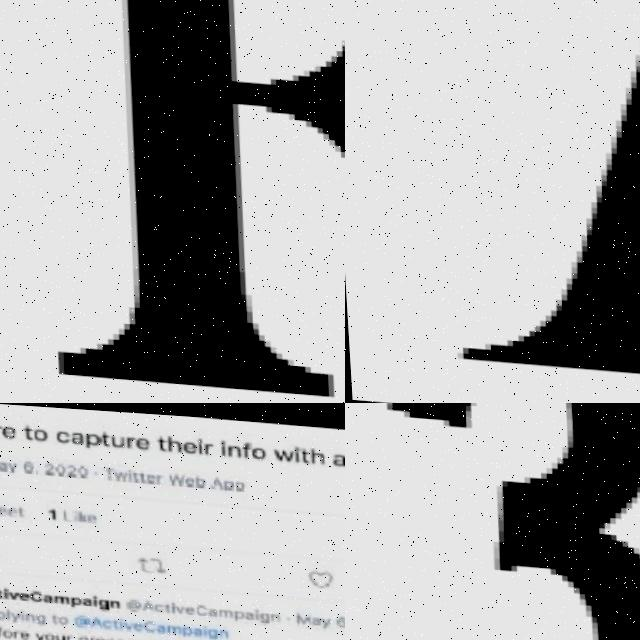0: (54, 461, 65, 472), (77, 463, 88, 473)
1: (47, 506, 54, 518)
2: (66, 462, 77, 473), (43, 461, 53, 471)
3: (353, 403, 640, 640)
6: (22, 459, 33, 470), (334, 611, 344, 621)
A: (331, 446, 345, 459), (69, 429, 83, 441), (210, 473, 223, 484), (88, 614, 100, 624), (140, 597, 151, 607), (40, 592, 50, 602), (79, 595, 90, 604), (205, 604, 215, 613), (242, 606, 251, 616), (190, 623, 200, 632), (309, 611, 318, 620), (153, 621, 162, 630), (0, 459, 6, 468)
B: (194, 471, 203, 482)
C: (53, 428, 70, 441), (140, 617, 153, 628), (28, 589, 40, 600), (192, 601, 204, 611), (151, 599, 161, 608), (99, 616, 109, 625), (133, 636, 143, 640), (155, 638, 166, 640)
E: (2, 424, 16, 437), (135, 433, 149, 446), (182, 437, 197, 449), (6, 505, 16, 515), (84, 510, 94, 520), (16, 590, 26, 600), (183, 473, 193, 482), (182, 602, 191, 612), (130, 619, 140, 628), (145, 469, 154, 478), (17, 629, 26, 638), (0, 504, 5, 513), (123, 636, 133, 640)
F: (13, 0, 345, 403), (241, 437, 250, 454)
G: (95, 596, 106, 607), (256, 607, 266, 617), (32, 612, 42, 622), (205, 624, 215, 634)
H: (166, 432, 181, 448), (309, 442, 324, 458)
I: (455, 45, 640, 371), (294, 440, 299, 457), (197, 434, 202, 450), (221, 436, 226, 452), (199, 620, 204, 633), (89, 592, 94, 604), (126, 467, 131, 477), (1, 586, 6, 596), (167, 599, 172, 609), (251, 605, 256, 615), (18, 609, 23, 619), (71, 509, 75, 519), (117, 616, 121, 626)
K: (78, 509, 84, 519)
L: (61, 508, 70, 518), (4, 608, 8, 618)
M: (50, 593, 67, 603), (162, 621, 179, 631), (293, 608, 308, 619), (215, 604, 231, 614)
N: (227, 440, 241, 453), (267, 608, 277, 618), (107, 596, 117, 605), (216, 625, 226, 634), (22, 613, 32, 619)
O: (31, 427, 48, 440), (250, 441, 267, 454), (41, 630, 51, 640), (0, 627, 9, 636), (92, 634, 102, 640), (56, 614, 65, 620)
P: (85, 431, 100, 446), (68, 594, 79, 605), (231, 605, 241, 616), (223, 475, 232, 486), (234, 476, 243, 487), (180, 622, 189, 633), (75, 633, 85, 640), (113, 635, 122, 640), (0, 609, 2, 619)
R: (125, 433, 135, 445), (203, 438, 212, 451), (155, 471, 162, 480), (63, 633, 69, 640), (86, 633, 92, 640), (11, 629, 15, 638)
S: (103, 634, 112, 640)
T: (156, 432, 166, 447), (22, 424, 32, 438), (100, 429, 109, 444), (300, 443, 309, 458), (103, 465, 114, 475), (109, 615, 116, 626), (132, 467, 139, 477), (138, 468, 145, 477), (161, 599, 168, 608), (16, 505, 22, 515), (49, 612, 55, 621), (143, 636, 149, 640)
U: (110, 431, 124, 444), (52, 631, 61, 640)
V: (120, 618, 131, 628), (5, 589, 16, 598), (172, 603, 182, 609)
W: (273, 443, 294, 456), (166, 469, 185, 480), (112, 468, 127, 478)
Y: (30, 629, 41, 640), (318, 611, 328, 622), (6, 460, 15, 471), (8, 611, 17, 620)
